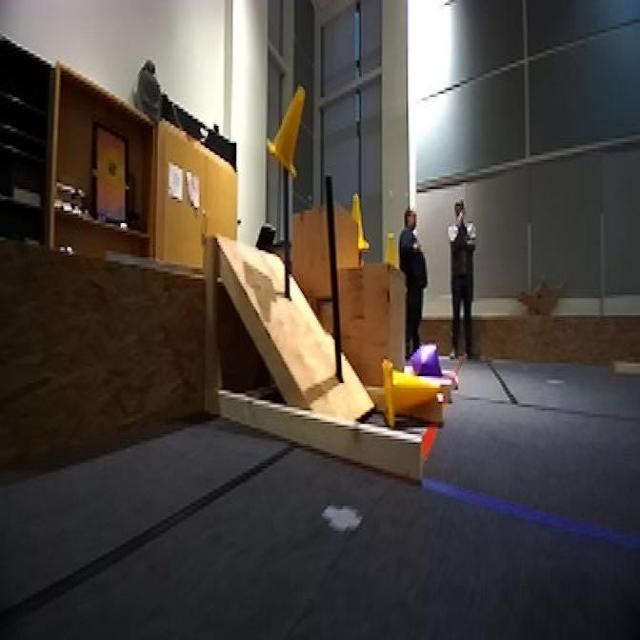frc_cone: (376, 361, 442, 434), (268, 87, 306, 177), (345, 187, 371, 254), (385, 231, 400, 269)
frc_cube: (413, 344, 444, 388)
